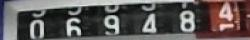digits: (210, 1, 244, 34), (103, 14, 120, 34), (179, 10, 195, 31), (28, 18, 44, 38), (65, 16, 81, 35), (141, 13, 156, 32)
